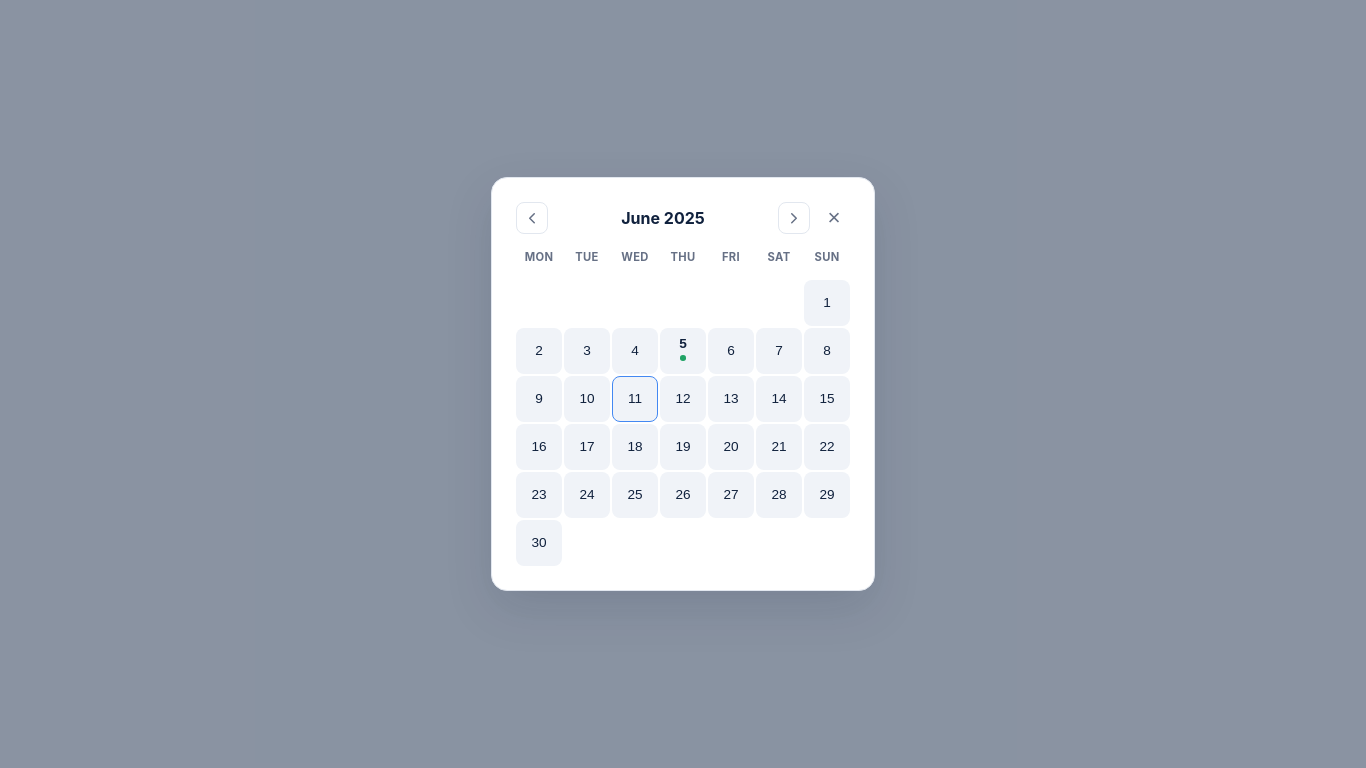
Test: ApplicationCalendarPopover › shows the empty message for a date with no applications
Click the cell with class "calendar-cell--day" showing "20": {"x": 731, "y": 447} [708, 424, 754, 470]
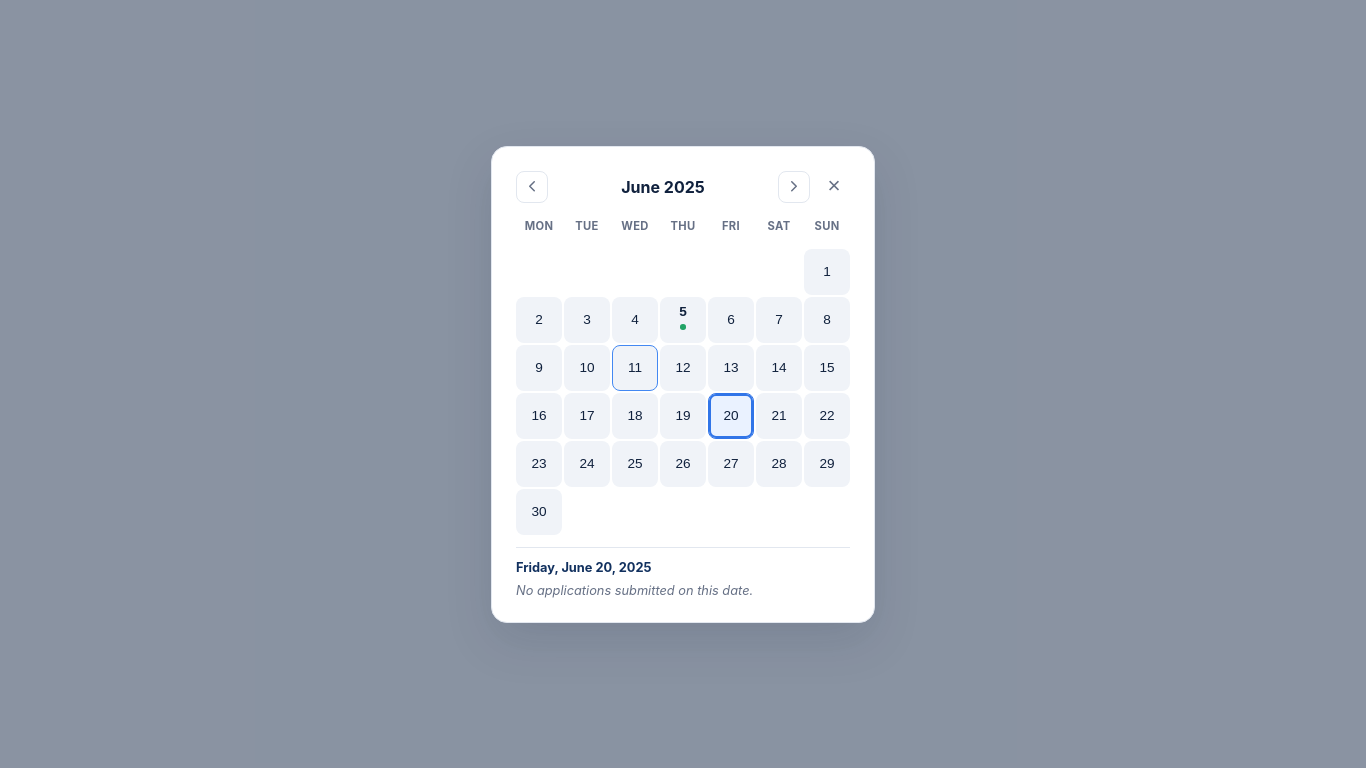
Check: the text with class "calendar-empty" reads "No applications submitted on this date.", box [516, 582, 753, 598]
